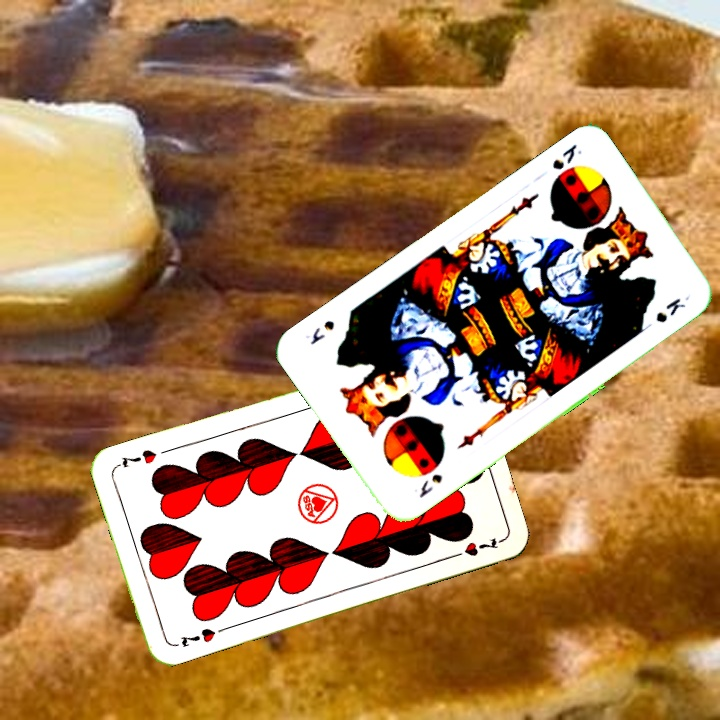H7: (176, 624, 218, 650)
SK: (548, 140, 585, 173), (415, 469, 445, 501)
